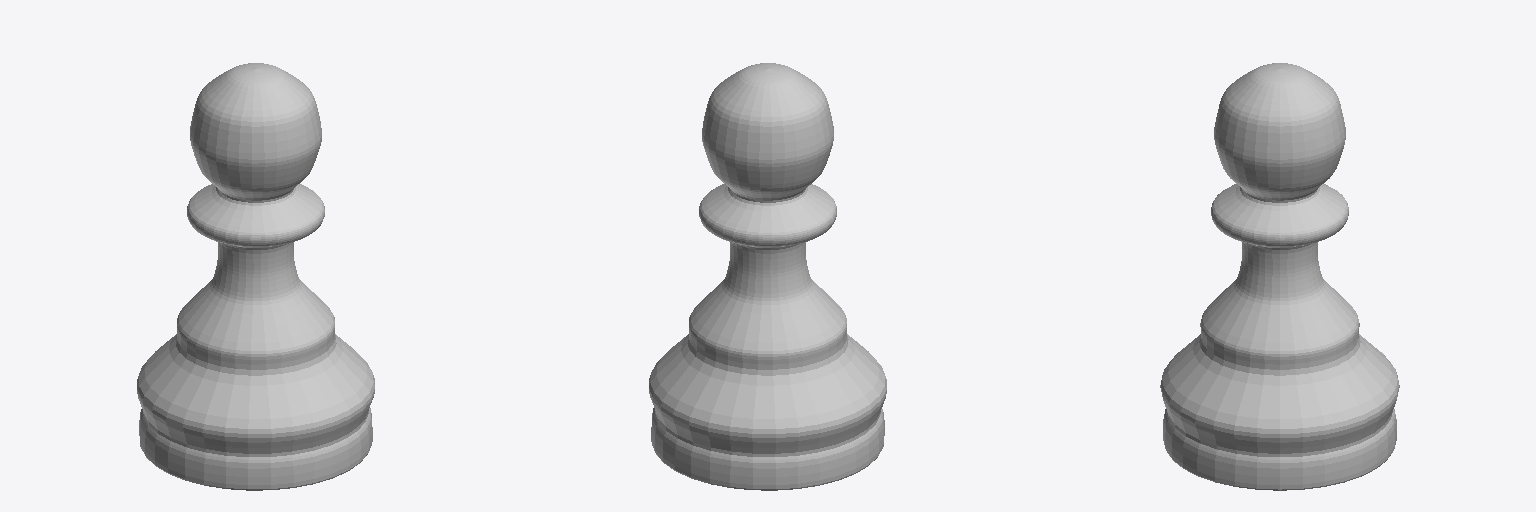
The model's file is white_pawn.obj.
3 views of the same model, side by side, from view 1: azimuth 30°, elevation 25°; view 2: azimuth 150°, elevation 25°; view 3: azimuth 270°, elevation 25° (orthographic).
Visible parts, largest first — view 1: Cube; view 2: Cube; view 3: Cube.
Part boxes in pixels (x1,y1,x2,y2): Cube: (137, 63, 374, 490); Cube: (649, 63, 886, 490); Cube: (1160, 63, 1399, 490).
Bounding box in the file's own units: 2.61 × 4.51 × 2.61.